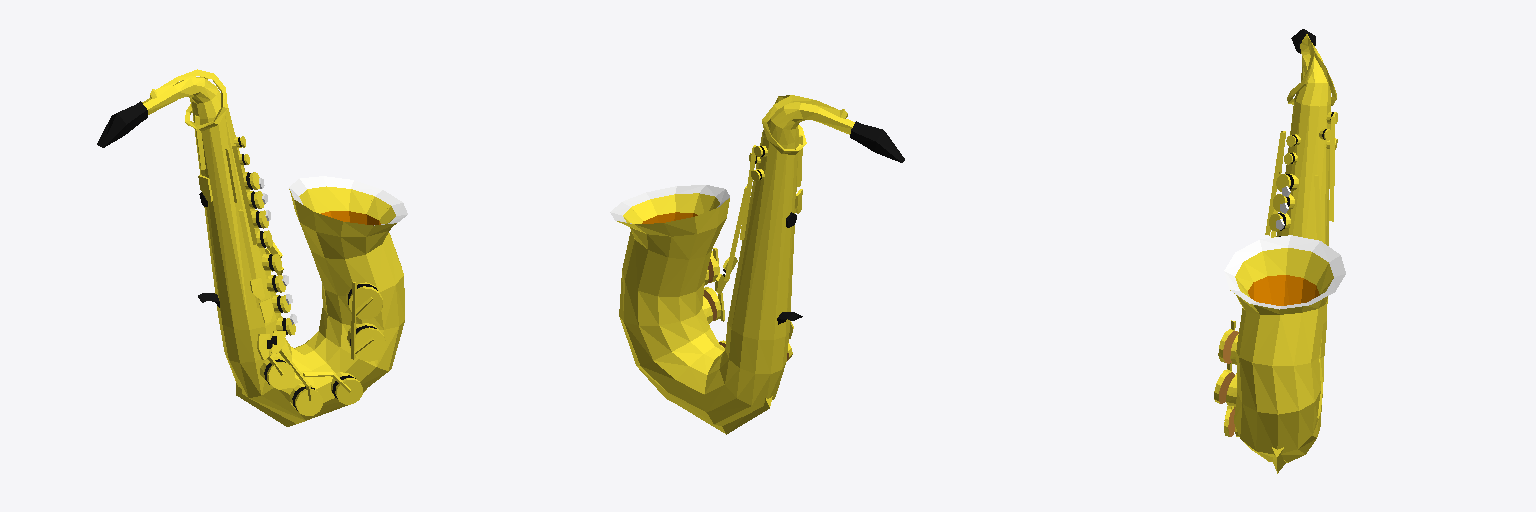
The picture shows the model from 3 angles: view 1: azimuth 30°, elevation 25°; view 2: azimuth 150°, elevation 25°; view 3: azimuth 270°, elevation 25°; orthographic projection.
Visible parts, largest first — view 1: group[number redacted], group[number redacted], group[number redacted], group[number redacted], group[number redacted], group[number redacted], group[number redacted], group[number redacted]; view 2: group[number redacted], group[number redacted], group[number redacted]; view 3: group[number redacted], group[number redacted], group[number redacted], group[number redacted].
Boxes of the visible parts, <box> form: group[number redacted]: <box>142,76,407,423</box>; group[number redacted]: <box>97,101,147,147</box>; group[number redacted]: <box>150,69,227,130</box>; group[number redacted]: <box>347,323,386,361</box>; group[number redacted]: <box>346,282,382,319</box>; group[number redacted]: <box>260,356,294,389</box>; group[number redacted]: <box>289,384,322,415</box>; group[number redacted]: <box>331,372,362,404</box>; group[number redacted]: <box>610,101,854,425</box>; group[number redacted]: <box>850,121,904,162</box>; group[number redacted]: <box>762,95,847,154</box>; group[number redacted]: <box>1224,42,1345,462</box>; group[number redacted]: <box>1214,369,1236,406</box>; group[number redacted]: <box>1287,34,1336,105</box>; group[number redacted]: <box>1218,329,1238,364</box>.
Size of the model in its own units: 0.5925 by 0.7099 by 0.2313.